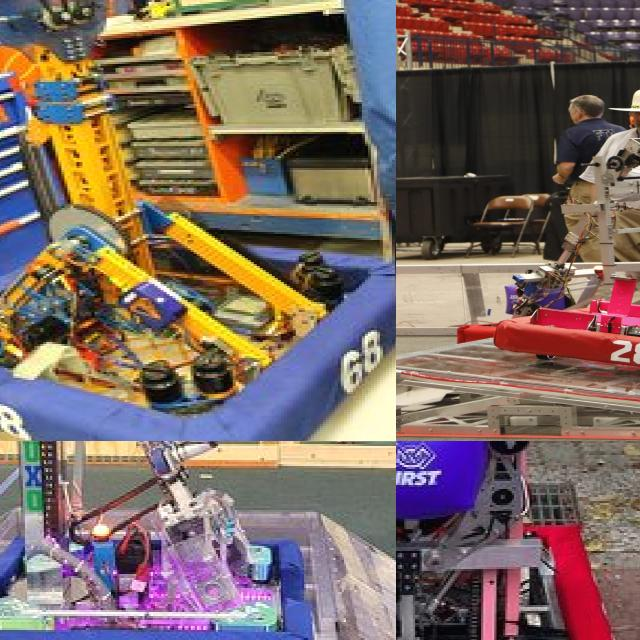FRC-Robots: (0, 0, 396, 441), (0, 441, 355, 640), (396, 441, 640, 640), (486, 95, 640, 376)
